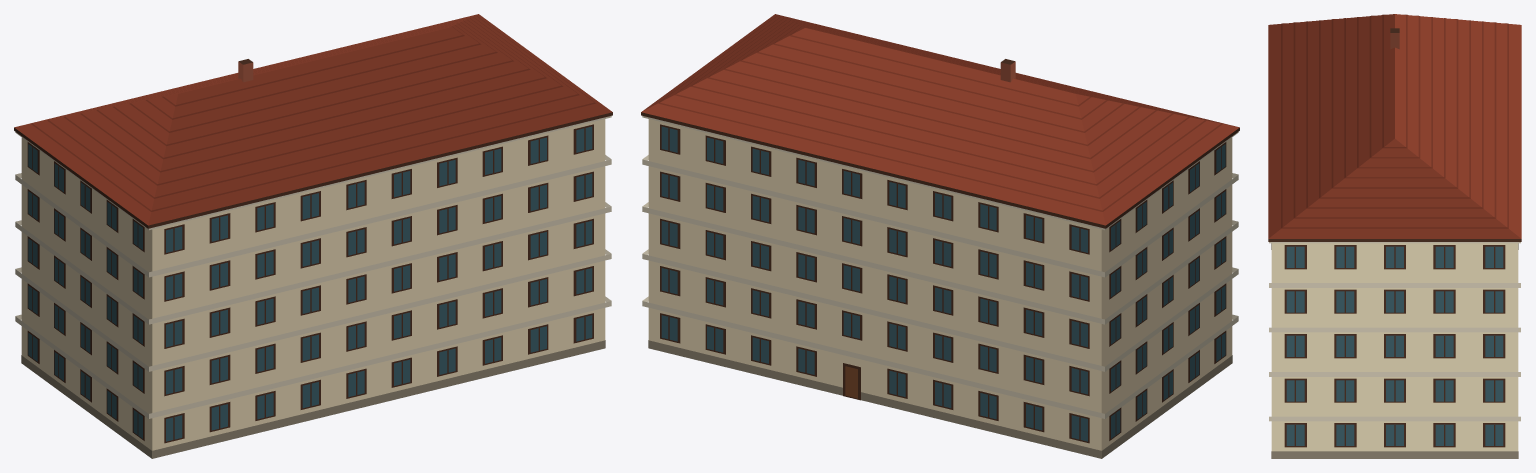
The model's file is corniced-city-residence.glb.
3 views of the same model, side by side, from view 1: azimuth 30°, elevation 25°; view 2: azimuth 150°, elevation 25°; view 3: azimuth 270°, elevation 25° (orthographic). The views are drawn at different scales.
Visible parts, largest first — view 1: Corniced city residence; view 2: Corniced city residence; view 3: Corniced city residence.
Boxes of the visible parts, left/top/right/bottom form: Corniced city residence: left=14, top=14, right=612, bottom=458; Corniced city residence: left=641, top=14, right=1239, bottom=458; Corniced city residence: left=1268, top=14, right=1521, bottom=458.
Bounding box in the file's own units: 32.98 × 21.05 × 16.49.
